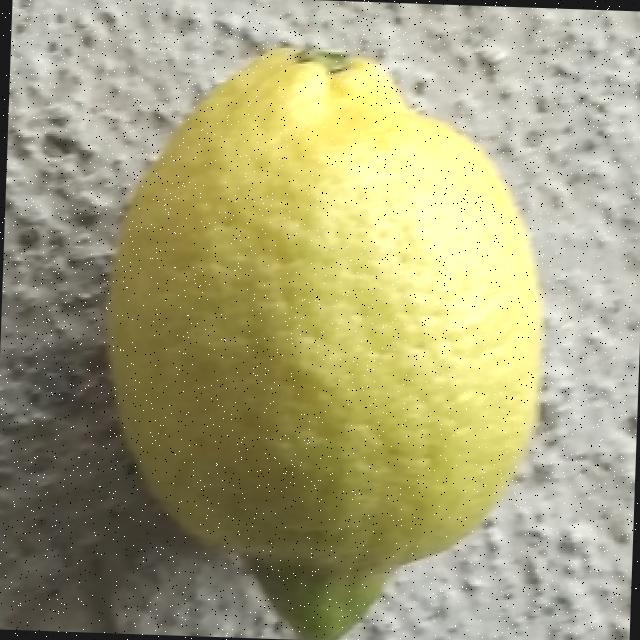Ripe: (90, 33, 563, 640)
